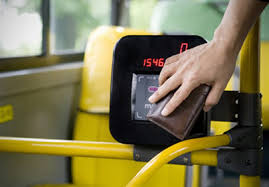terminal: (107, 32, 217, 146)
